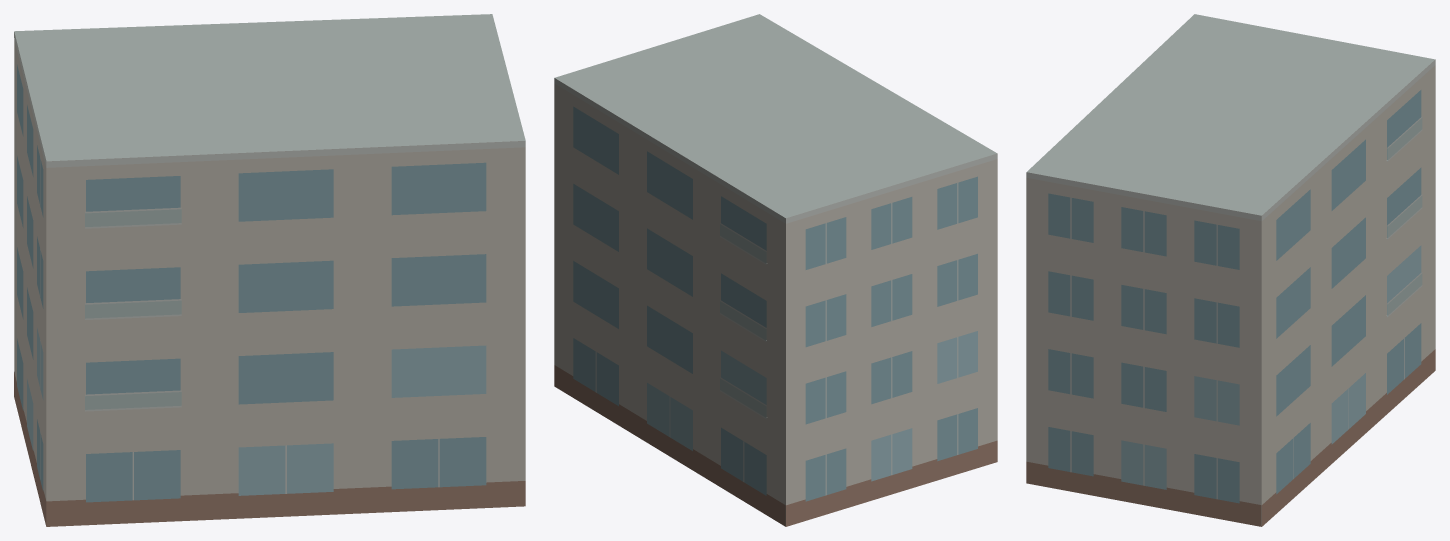
File: survey-upis-32696700.glb
The picture shows the model from 3 angles, left to right: view 1: azimuth 30°, elevation 25°; view 2: azimuth 150°, elevation 25°; view 3: azimuth 270°, elevation 25°; orthographic projection. The views are drawn at different scales.
Parts seen in each view (by area): view 1: survey-upis-32696700.tmp; view 2: survey-upis-32696700.tmp; view 3: survey-upis-32696700.tmp.
Part boxes in pixels (<box>): survey-upis-32696700.tmp: <box>14,14,525,526</box>; survey-upis-32696700.tmp: <box>554,14,997,526</box>; survey-upis-32696700.tmp: <box>1026,14,1435,526</box>.
Bounding box in the file's own units: 18.98 × 13.65 × 16.27.
